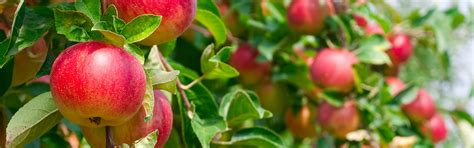apple: (46, 36, 154, 134), (309, 45, 365, 93)
